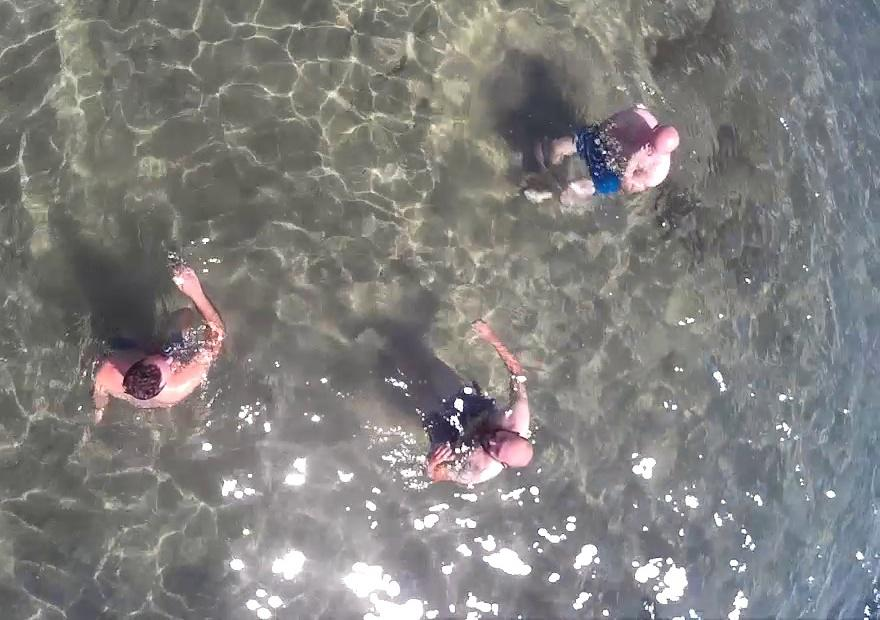human: (66, 248, 228, 440), (488, 79, 683, 224), (407, 306, 543, 492)
